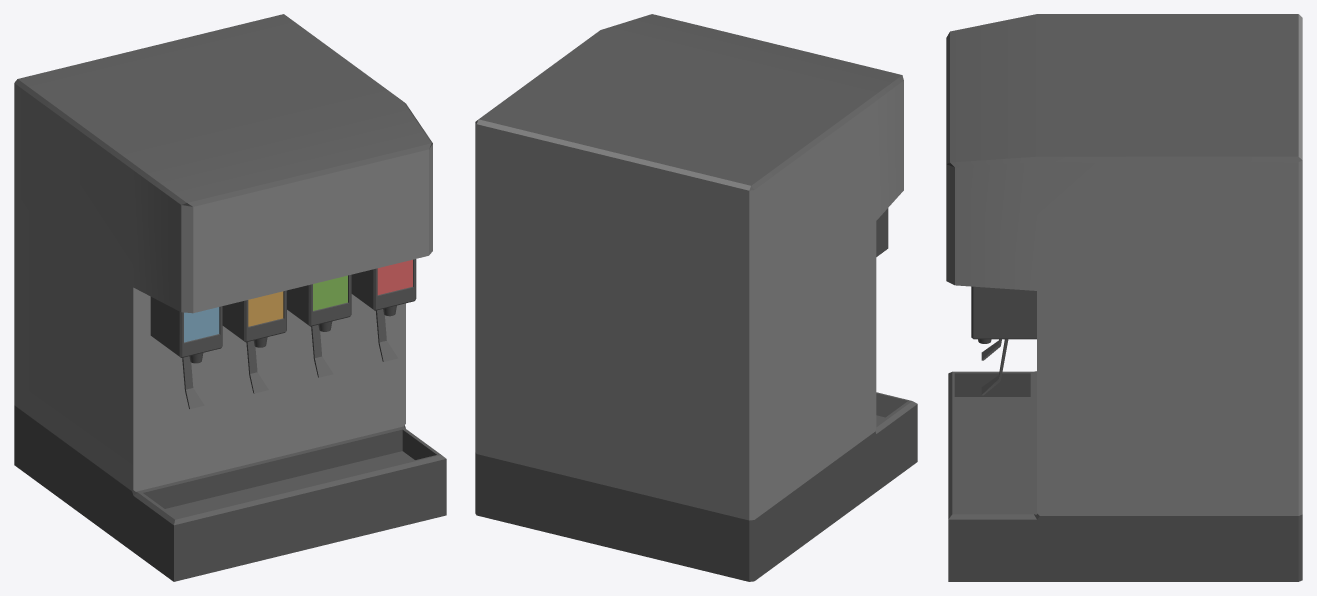
File: Soda_Machine.fbx
The picture shows the model from 3 angles, left to right: view 1: azimuth 30°, elevation 25°; view 2: azimuth 150°, elevation 25°; view 3: azimuth 270°, elevation 25°; orthographic projection. The views are drawn at different scales.
Parts seen in each view (by area): view 1: pCube1, pCylinder3, pCylinder2, pCylinder5, pCylinder4; view 2: pCube1; view 3: pCube1, pCylinder2.
Boxes of the visible parts, x1,y1,x2,y2 form: pCube1: (14, 14, 446, 581); pCylinder3: (150, 297, 222, 409); pCylinder2: (351, 259, 416, 361); pCylinder5: (287, 274, 351, 377); pCylinder4: (222, 290, 286, 393); pCube1: (475, 14, 917, 581); pCube1: (946, 14, 1302, 581); pCylinder2: (971, 286, 1036, 395).
Bounding box in the file's own units: 1.3 × 1.76 × 1.34.
